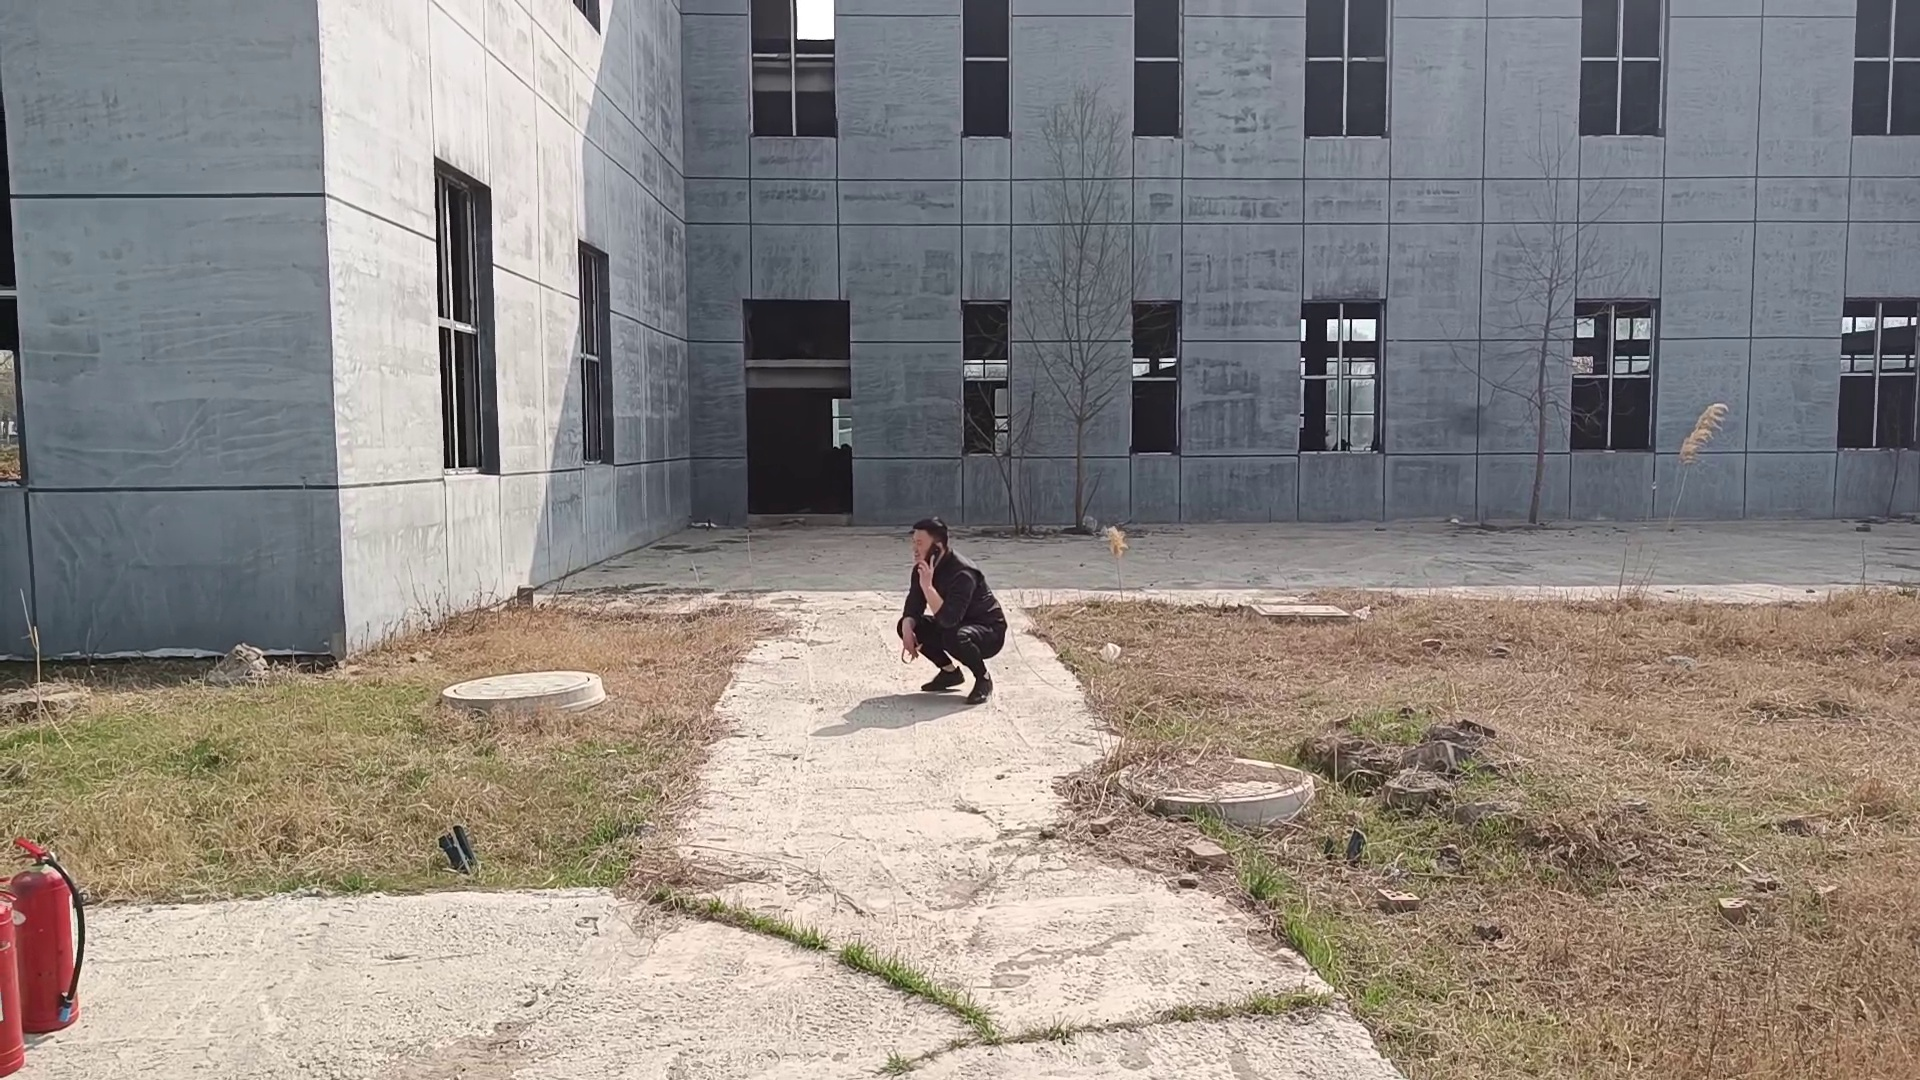phone: (899, 513, 952, 567)
